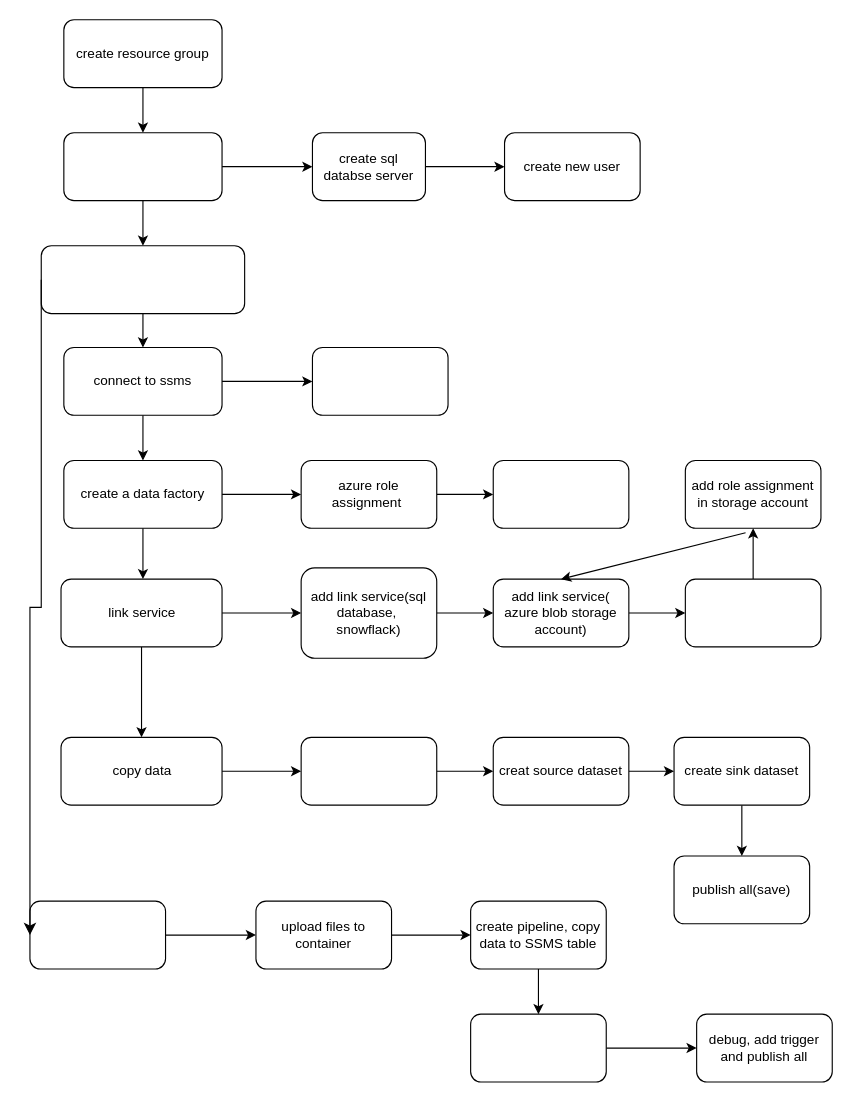
Image size: 852x1102. Some labels were removed from this diagram. Each missing label, with the box of its shape:
add a pipeline, copy data: (300, 736, 437, 805)
copy data to snowflake: (470, 1013, 606, 1082)
create container: (29, 900, 166, 969)
create container (get the URL): (684, 578, 821, 647)
create database: (63, 132, 222, 201)
create storage account: (40, 245, 245, 314)
download ssms: (311, 346, 448, 415)
launch studio: (492, 459, 629, 528)
